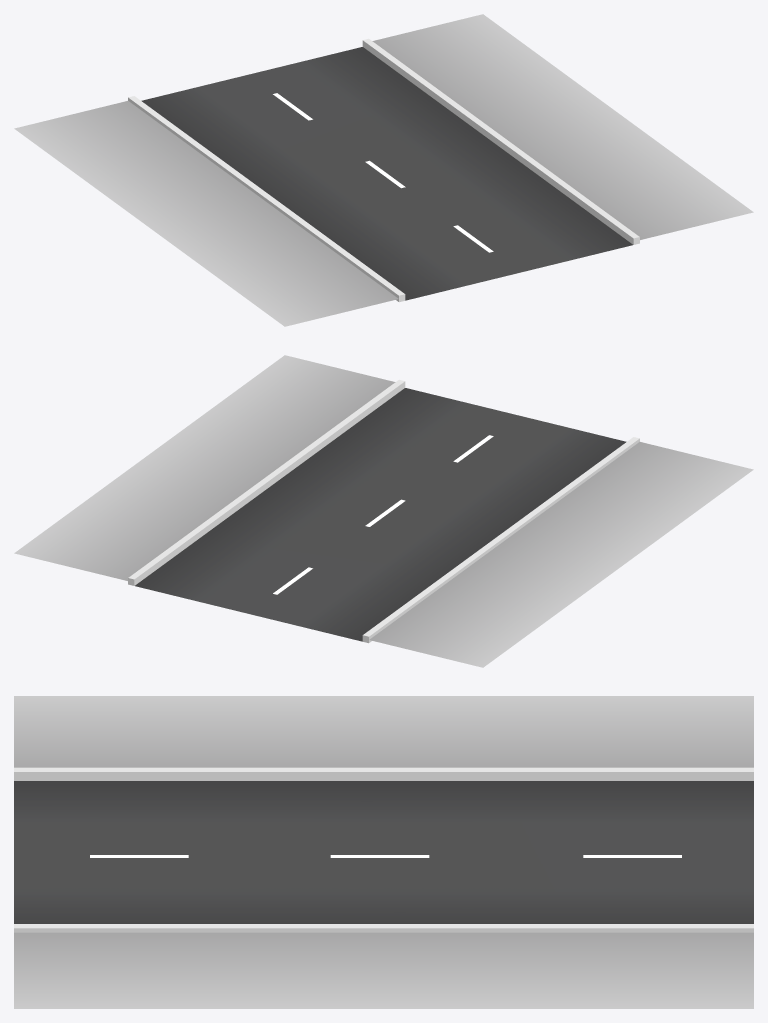
The model's file is city2-road-009.glb.
The picture shows the model from 3 angles, top to bottom: view 1: azimuth 30°, elevation 25°; view 2: azimuth 150°, elevation 25°; view 3: azimuth 270°, elevation 25°; orthographic projection. The views are drawn at different scales.
Parts seen in each view (by area): view 1: road_009; view 2: road_009; view 3: road_009.
Boxes of the visible parts, bbox=[...] form: road_009: bbox=[14, 14, 753, 326]; road_009: bbox=[14, 355, 753, 667]; road_009: bbox=[14, 696, 753, 1008].
Bounding box in the file's own units: 15 × 0.2 × 15.
1 material, 1 textured.
